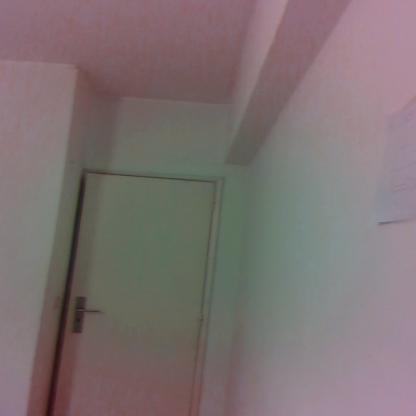door: (66, 171, 193, 416)
hinged: (197, 312, 204, 328), (210, 194, 216, 212)
lever: (75, 308, 102, 313)
